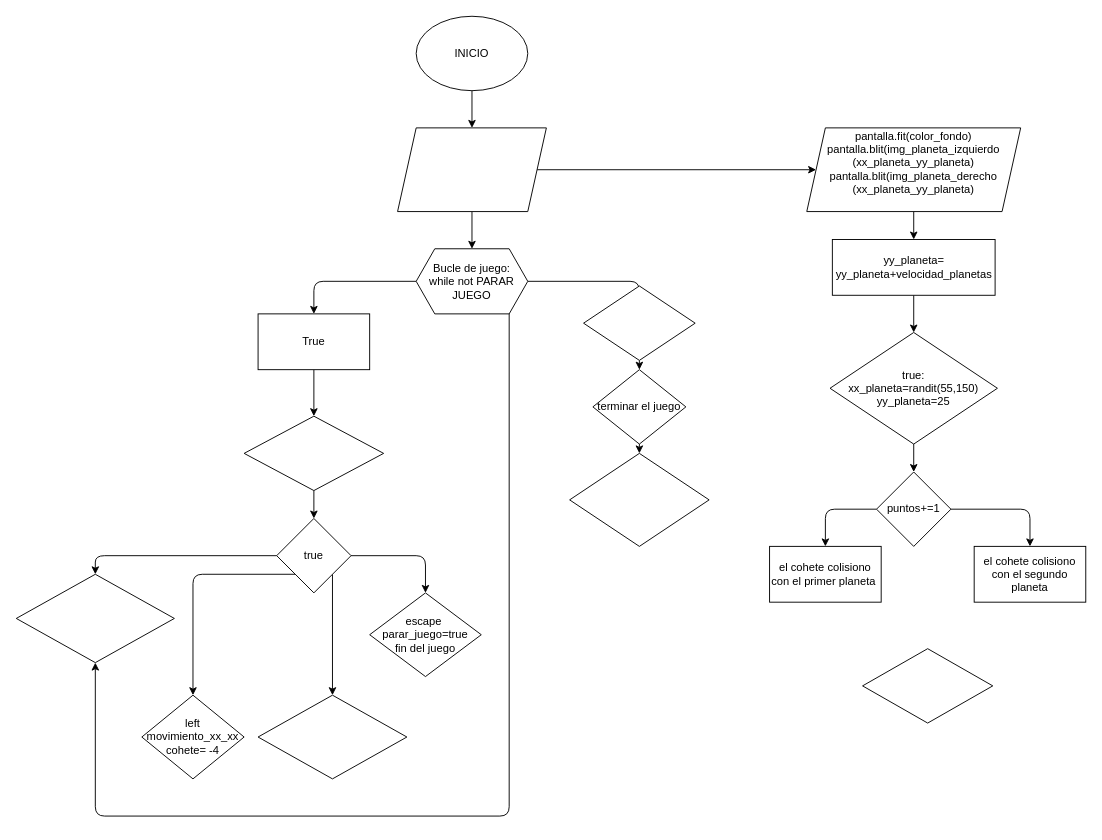
This 1102x840 diagram has some shape labels left out. The shapes that lost their labels are listed below. From the top down, each one's centre as x and y in pixels, then its label:
the point at 471,169: Anchura_ventana=600 Altura_ventana=600 color_fondo(255,255)
the point at 639,322: False
the point at 313,453: el evento es de tipo keydown o keyup
the point at 639,499: parar_luego = true fin de el juego
the point at 94,618: si el evento es keyup movimiento_xx cohete= 0
the point at 927,685: si true parar juego
the point at 332,736: rigth movimiento_ xx_xx cohete=4
